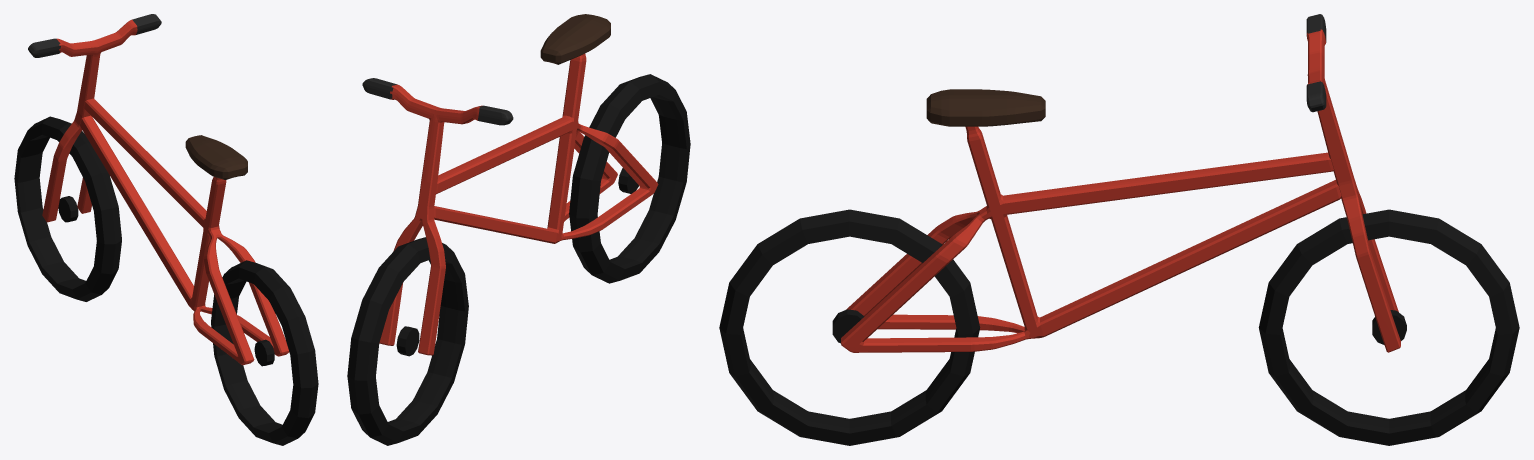
The model's file is bici.glb.
3 renders of one model, left to right at view 1: azimuth 30°, elevation 25°; view 2: azimuth 150°, elevation 25°; view 3: azimuth 270°, elevation 25°, orthographic. The views are drawn at different scales.
Visible parts, largest first — view 1: Frame_Cube.005, FrontWheel_Cylinder.002, BackWheel_Cylinder.001, Handle_Cube.000, Saddle_Cube.007; view 2: FrontWheel_Cylinder.002, BackWheel_Cylinder.001, Frame_Cube.005, Handle_Cube.000, Saddle_Cube.007; view 3: Frame_Cube.005, FrontWheel_Cylinder.002, BackWheel_Cylinder.001, Handle_Cube.000, Saddle_Cube.007.
Part boxes in pixels (x1,y1,x2,y2): Frame_Cube.005: (80, 98, 289, 365); FrontWheel_Cylinder.002: (14, 116, 121, 301); BackWheel_Cylinder.001: (211, 260, 318, 445); Handle_Cube.000: (28, 14, 161, 222); Saddle_Cube.007: (185, 135, 247, 179); FrontWheel_Cylinder.002: (347, 237, 468, 445); BackWheel_Cylinder.001: (569, 74, 690, 283); Frame_Cube.005: (434, 53, 658, 243); Handle_Cube.000: (362, 78, 513, 355); Saddle_Cube.007: (540, 14, 610, 64); Frame_Cube.005: (841, 126, 1341, 352); FrontWheel_Cylinder.002: (1258, 209, 1519, 445); BackWheel_Cylinder.001: (719, 209, 980, 445); Handle_Cube.000: (1306, 14, 1400, 352); Saddle_Cube.007: (926, 89, 1045, 126).
Bounding box in the file's own units: 1.49 × 3.15 × 5.83.
